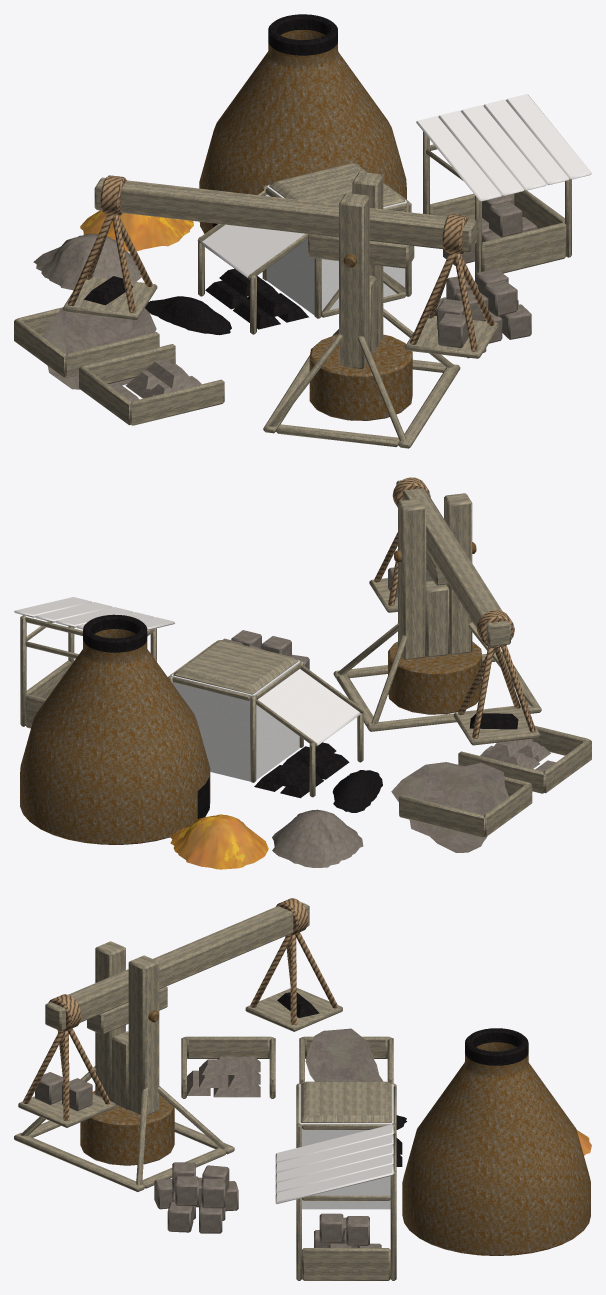
Rendered from mining-camp-import-me.glb.
3 views of the same model, one above another, from view 1: azimuth 30°, elevation 25°; view 2: azimuth 150°, elevation 25°; view 3: azimuth 270°, elevation 25° (orthographic). The views are drawn at different scales.
Parts seen in each view (by area): view 1: smelter_chimney, arm_upper, base, shoulder, stucco_walls, rock_pile, pile_of_gravel, wood_half_wall, small_awning, roof, pile_of_gold, wood_wall_1 (+36 smaller); view 2: smelter_chimney, stucco_walls, rock_pile, base, arm_upper, shoulder_1, roof, small_awning, pile_of_gold, pile_of_gravel, shoulder, wood_wall__2_ (+23 smaller); view 3: smelter_chimney, arm_upper, shoulder_1, base, roof, rock_pile, wood_half_wall__2_, stucco_walls, shoulder, wood_wall__1__1, palette, canvas_awning__4_ (+35 smaller).
Boxes of the visible parts, x1,y1,x2,y2 form: smelter_chimney: (199,14,406,233); arm_upper: (94,177,476,251); base: (309,334,412,420); shoulder: (339,193,369,369); stucco_walls: (267,185,406,317); rock_pile: (43,308,156,389); pile_of_gravel: (33,233,141,290); wood_half_wall: (482,222,566,273); small_awning: (201,194,305,278); roof: (269,163,405,206); pile_of_gold: (80,210,193,251); wood_wall_1: (130,379,224,425); smelter_chimney: (20,614,210,844); stucco_walls: (171,660,300,781); rock_pile: (391,762,508,852); base: (388,641,482,714); arm_upper: (396,480,510,646); shoulder_1: (398,498,426,659); roof: (173,640,298,694); small_awning: (258,669,360,745); pile_of_gold: (170,814,268,869); pile_of_gravel: (272,809,363,867); shoulder: (444,493,472,654); wood_wall__2_: (399,795,484,837); smelter_chimney: (402,1028,590,1255); arm_upper: (45,902,309,1030); shoulder_1: (128,955,159,1115); base: (80,1090,174,1165); roof: (300,1081,392,1122); rock_pile: (305,1028,383,1081); wood_half_wall__2_: (302,1248,390,1280); stucco_walls: (299,1084,393,1209); shoulder: (95,941,125,1101); wood_wall__1__1: (183,1036,273,1058); palette: (245,988,342,1031); canvas_awning__4_: (275,1164,393,1204).
Size of the model in its own units: 23.05 by 10.72 by 24.49.
Materials: 9 (9 with a texture image).
